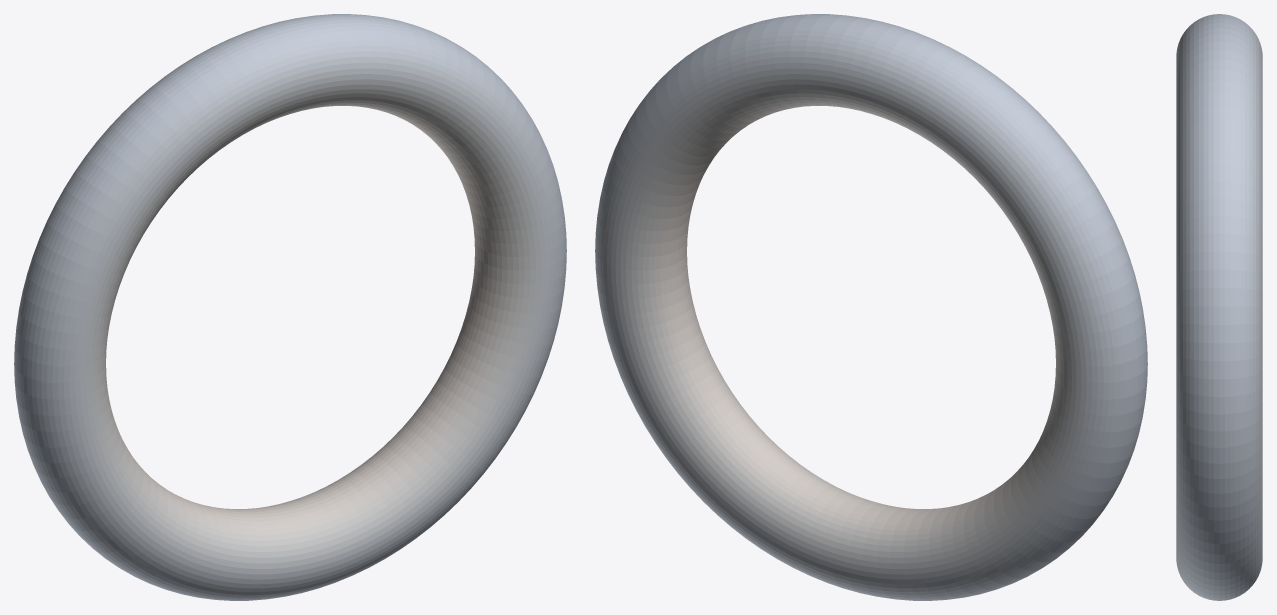
The picture shows the model from 3 angles, left to right: view 1: azimuth 30°, elevation 25°; view 2: azimuth 150°, elevation 25°; view 3: azimuth 270°, elevation 25°; orthographic projection. The views are drawn at different scales.
Visible parts, largest first — view 1: world; view 2: world; view 3: world.
Boxes of the visible parts, box(x1,y1,x2,y2) form: world: box(14, 14, 566, 600); world: box(595, 14, 1147, 600); world: box(1176, 14, 1262, 600).
Bounding box in the file's own units: 17.2 × 17.2 × 2.53.
